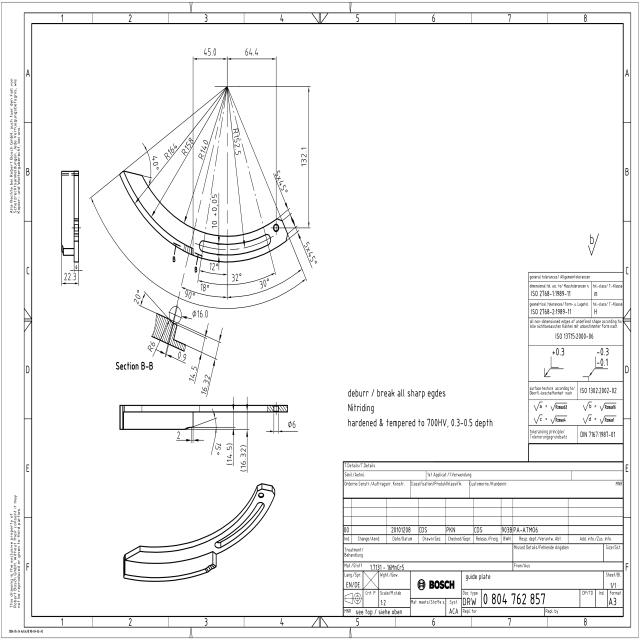dimension: (272, 167, 290, 195), (302, 239, 319, 266), (62, 261, 80, 285), (180, 136, 196, 158), (198, 372, 212, 397), (210, 192, 219, 230), (197, 136, 210, 162), (163, 141, 179, 162), (232, 127, 243, 157), (186, 359, 199, 383), (131, 289, 147, 307), (238, 443, 247, 472), (191, 307, 210, 320), (183, 284, 196, 302), (202, 45, 217, 58), (244, 45, 259, 58), (225, 442, 233, 466), (176, 349, 188, 364), (213, 441, 223, 458), (300, 146, 308, 167), (258, 277, 270, 290), (151, 154, 160, 171), (147, 339, 157, 354), (230, 271, 242, 283), (199, 280, 210, 292), (208, 261, 220, 271), (287, 418, 297, 430), (176, 430, 182, 441)
